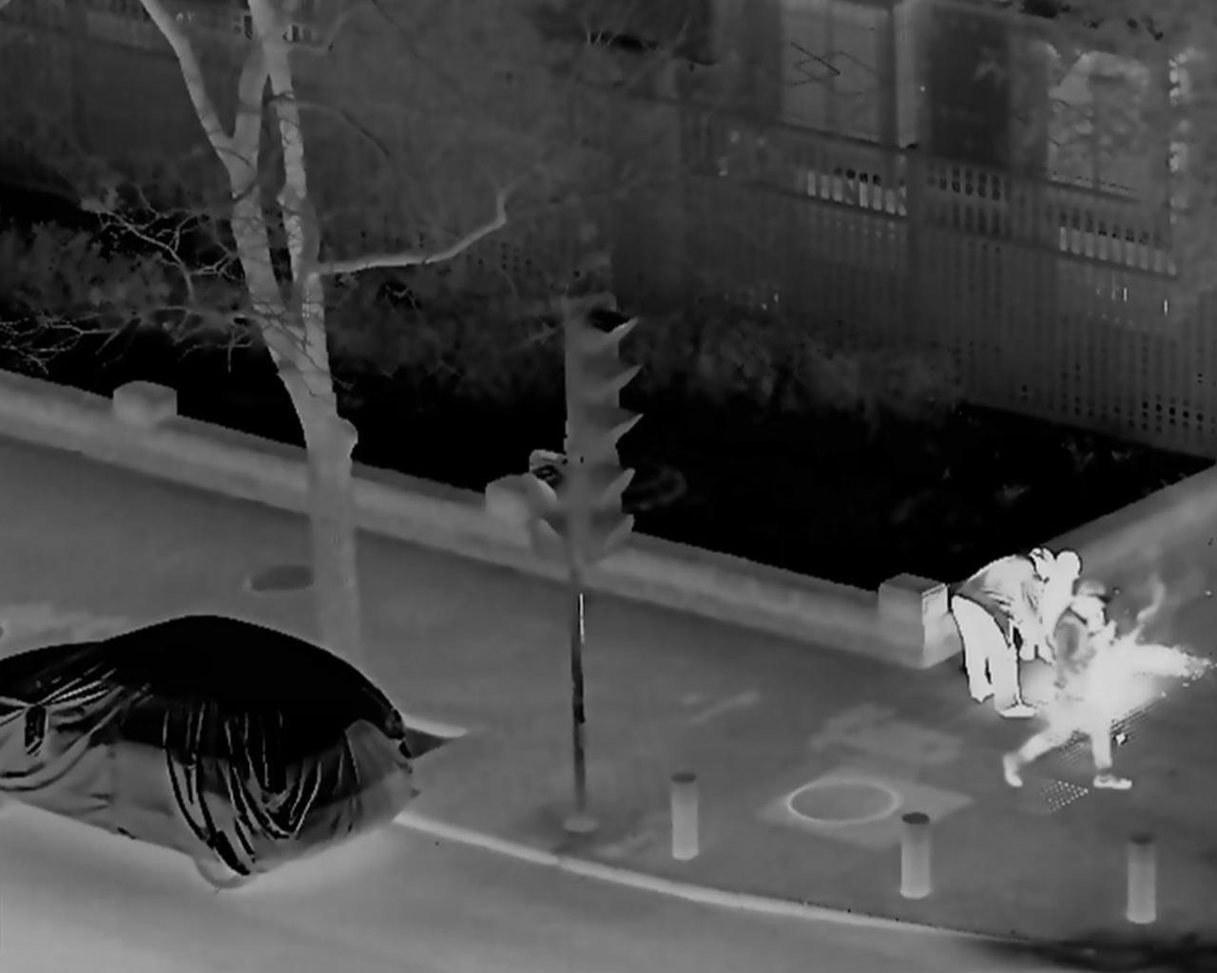person: (1004, 586, 1136, 796), (951, 550, 1052, 720), (1019, 550, 1097, 668)
